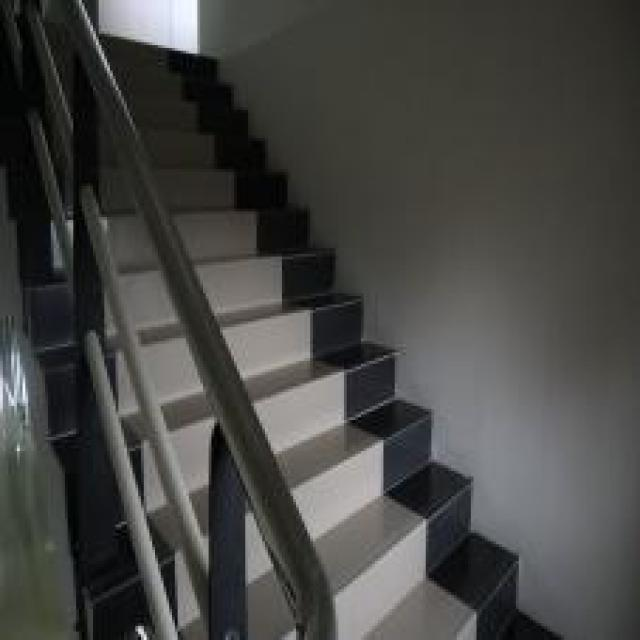upstair: (331, 351, 506, 638)
